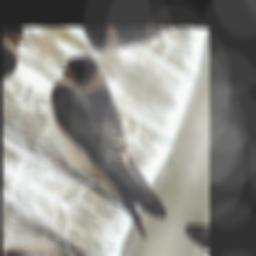Swallow: (20, 39, 199, 248)
